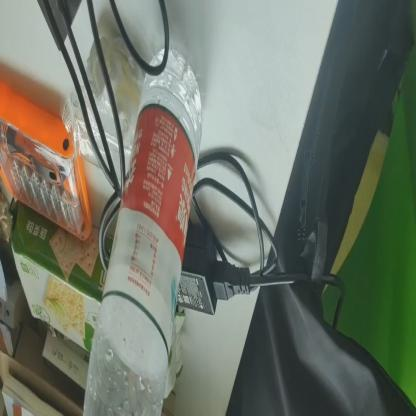Glass Bottle: (79, 46, 207, 416)
